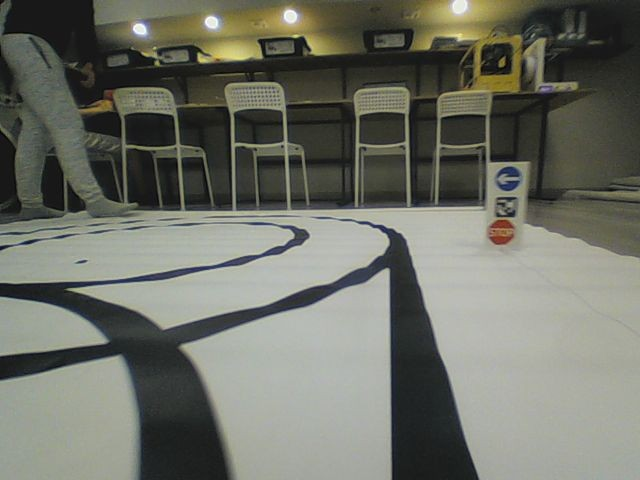Stop: (486, 218, 515, 246)
